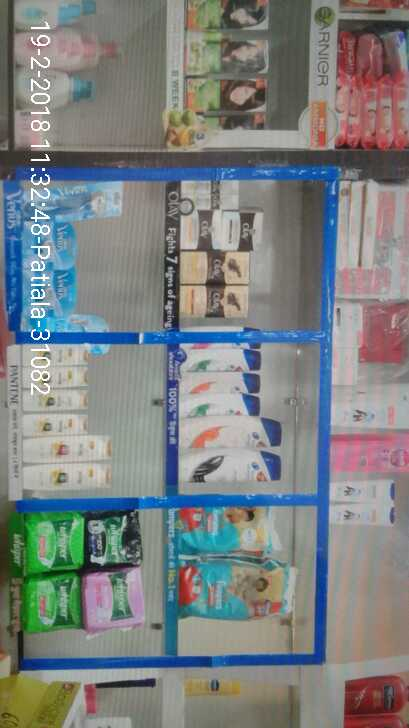venus: (17, 180, 127, 230), (5, 309, 115, 354), (4, 265, 76, 309), (17, 229, 76, 264)
